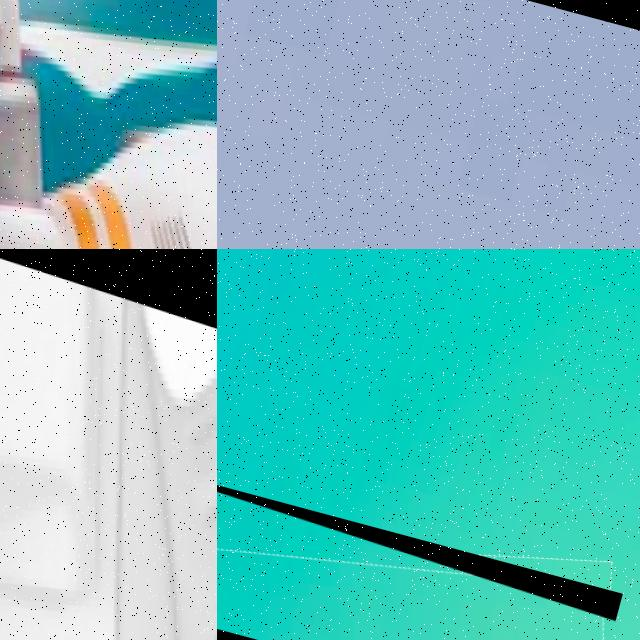drone: (0, 249, 217, 640), (217, 451, 622, 640), (0, 0, 217, 249)
